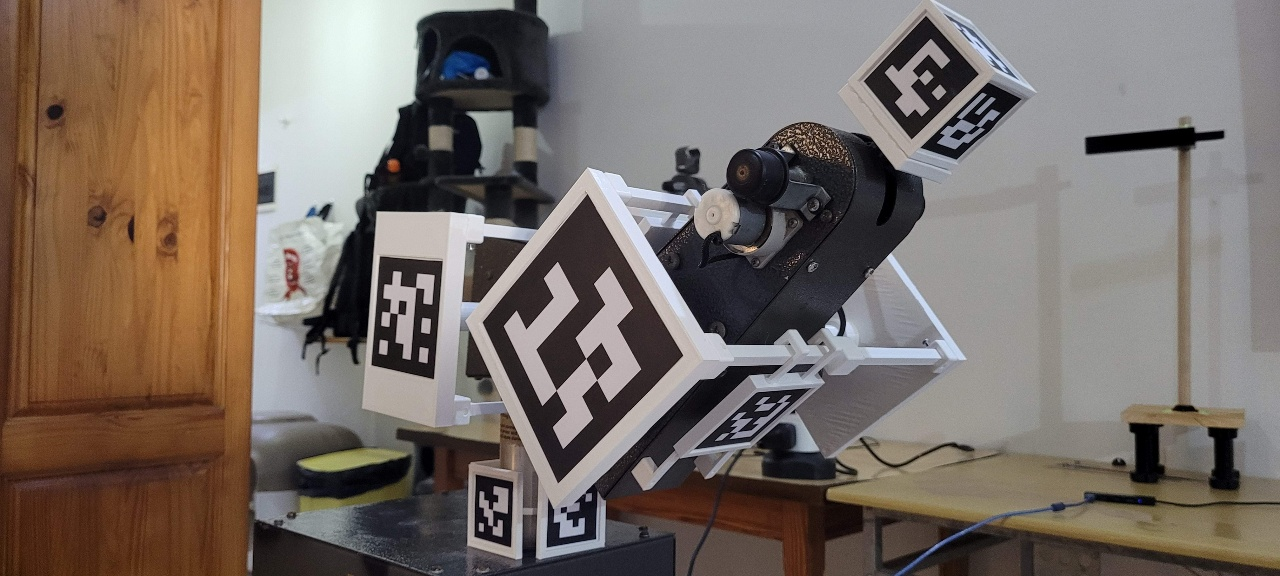Robot: (359, 2, 1038, 561)
